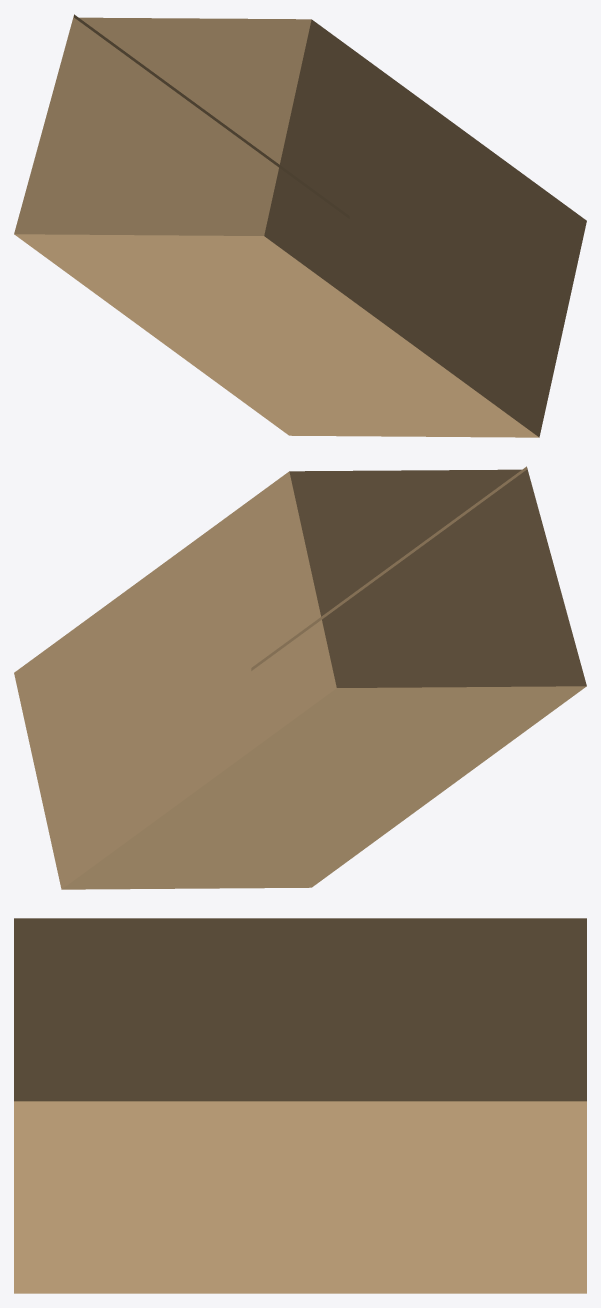
The picture shows the model from 3 angles, top to bottom: view 1: azimuth 30°, elevation 25°; view 2: azimuth 150°, elevation 25°; view 3: azimuth 270°, elevation 25°; orthographic projection. The views are drawn at different scales.
Visible parts, largest first — view 1: 0_3_0_1_1_1_3_0_3_2; view 2: 0_3_0_1_1_1_3_0_3_2; view 3: 0_3_0_1_1_1_3_0_3_2.
Boxes of the visible parts, x1,y1,x2,y2 form: 0_3_0_1_1_1_3_0_3_2: (14,14,586,437); 0_3_0_1_1_1_3_0_3_2: (14,466,586,889); 0_3_0_1_1_1_3_0_3_2: (14,918,586,1293).
Size of the model in its own units: 14.98 by 12.9 by 24.
